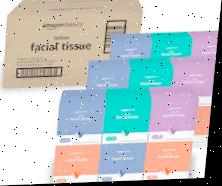cube: (150, 87, 203, 142), (103, 87, 154, 144), (57, 89, 108, 144), (55, 144, 104, 184)
